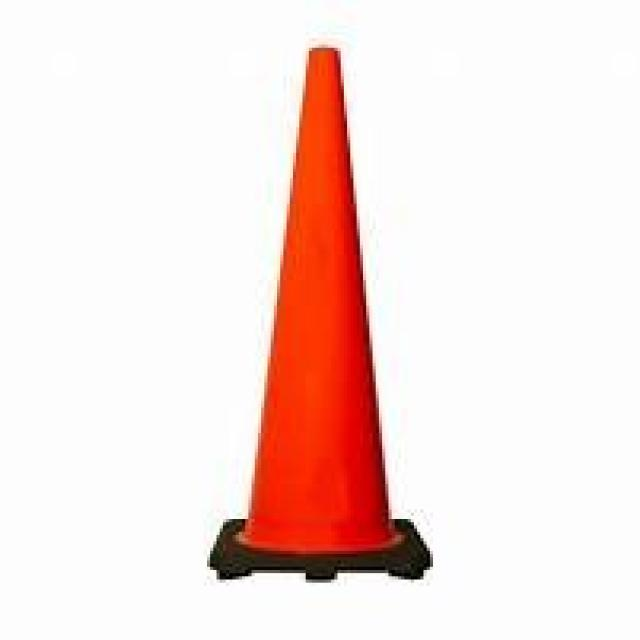traffic cone: (201, 41, 444, 599)
